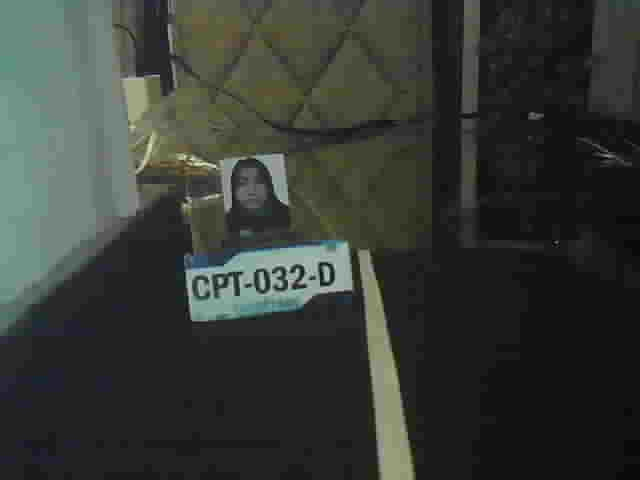PLACA: (180, 238, 356, 327)
ROSTRO: (225, 155, 291, 225)
